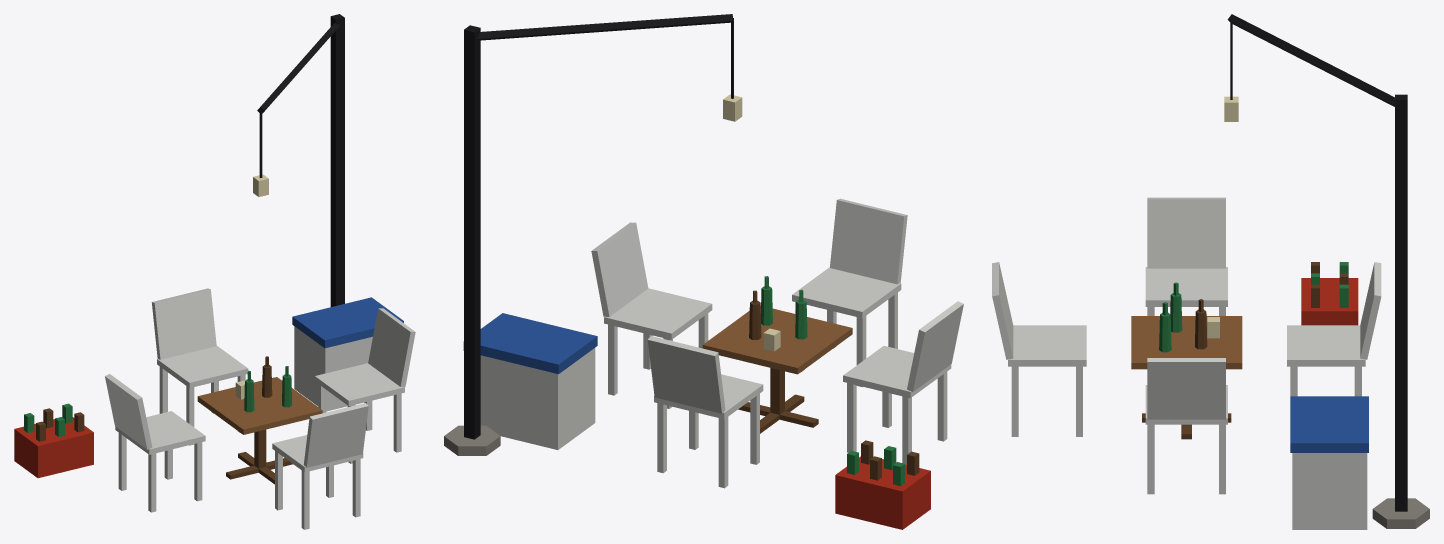
Rendered from prop_joint-set.glb.
The picture shows the model from 3 angles, left to right: view 1: azimuth 30°, elevation 25°; view 2: azimuth 150°, elevation 25°; view 3: azimuth 270°, elevation 25°; orthographic projection. The views are drawn at different scales.
Parts seen in each view (by area): view 1: body; view 2: body; view 3: body.
Part boxes in pixels (left/top/right/bottom): body: left=14, top=14, right=415, bottom=529; body: left=444, top=14, right=963, bottom=529; body: left=992, top=14, right=1429, bottom=529.
Bounding box in the file's own units: 2.83 × 2.6 × 2.45.
